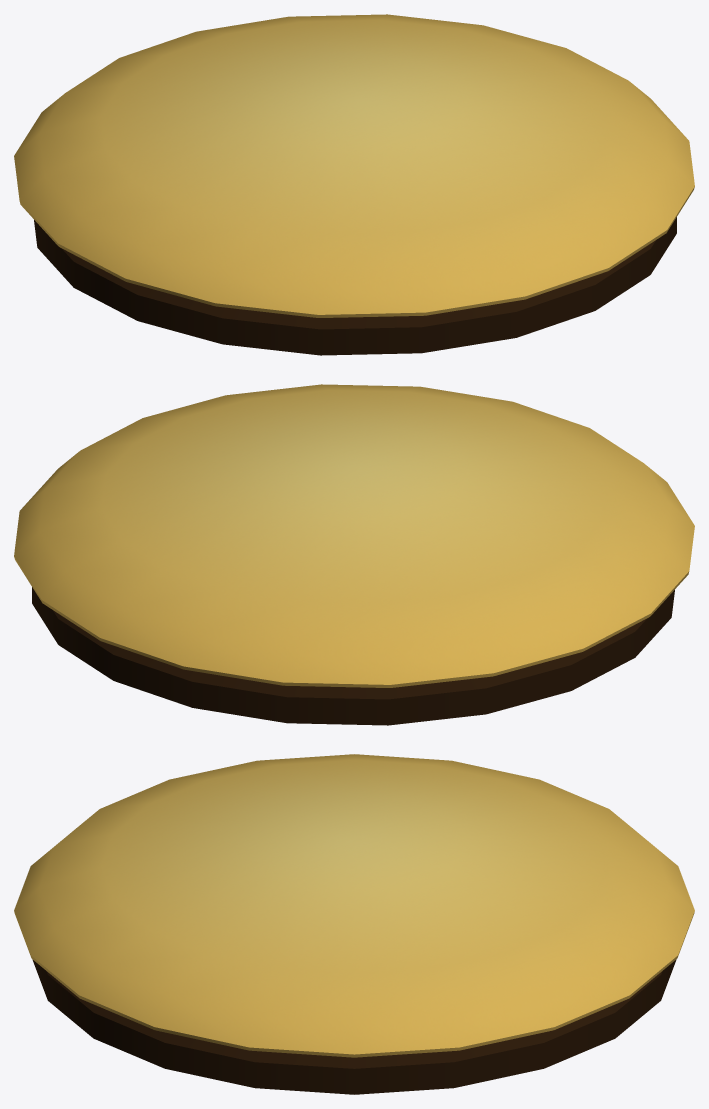
File: CeilingLamp_70s_v1 (1).fbx
3 views of the same model, one above another, from view 1: azimuth 30°, elevation 25°; view 2: azimuth 150°, elevation 25°; view 3: azimuth 270°, elevation 25° (orthographic).
Visible parts, largest first — view 1: pCylinder1; view 2: pCylinder1; view 3: pCylinder1.
Part boxes in pixels (bbox=[...]): pCylinder1: bbox=[14, 14, 694, 355]; pCylinder1: bbox=[14, 384, 694, 725]; pCylinder1: bbox=[14, 754, 694, 1094].
Size of the model in its own units: 4.07 by 0.7856 by 4.07.
